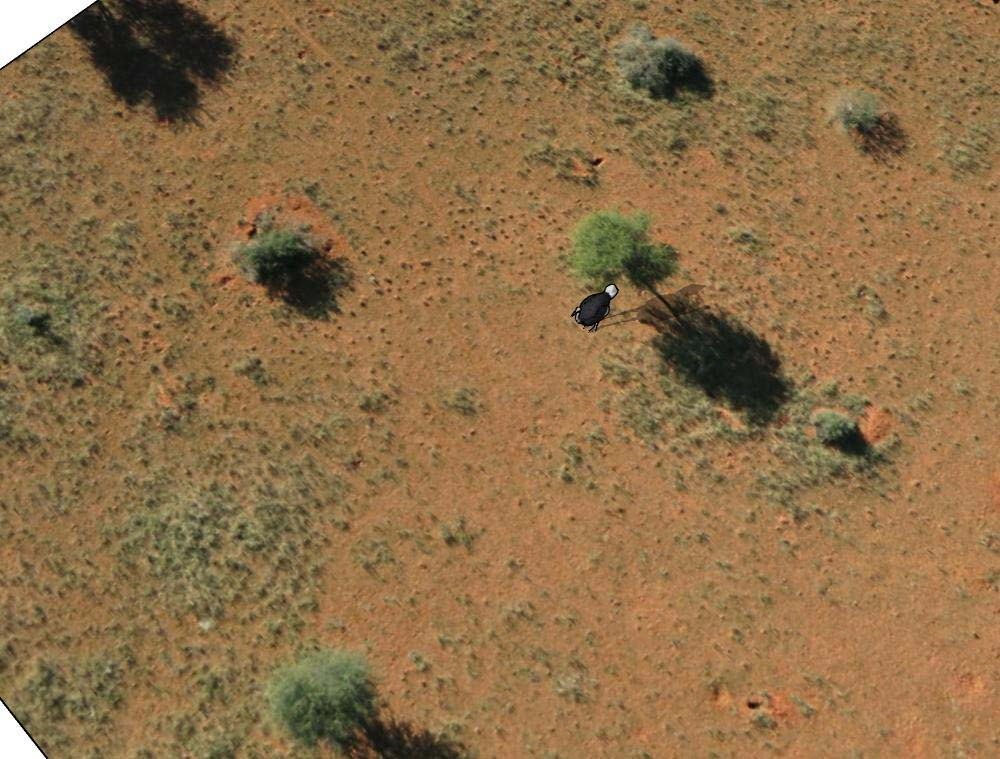ostrich: (565, 280, 622, 335)
